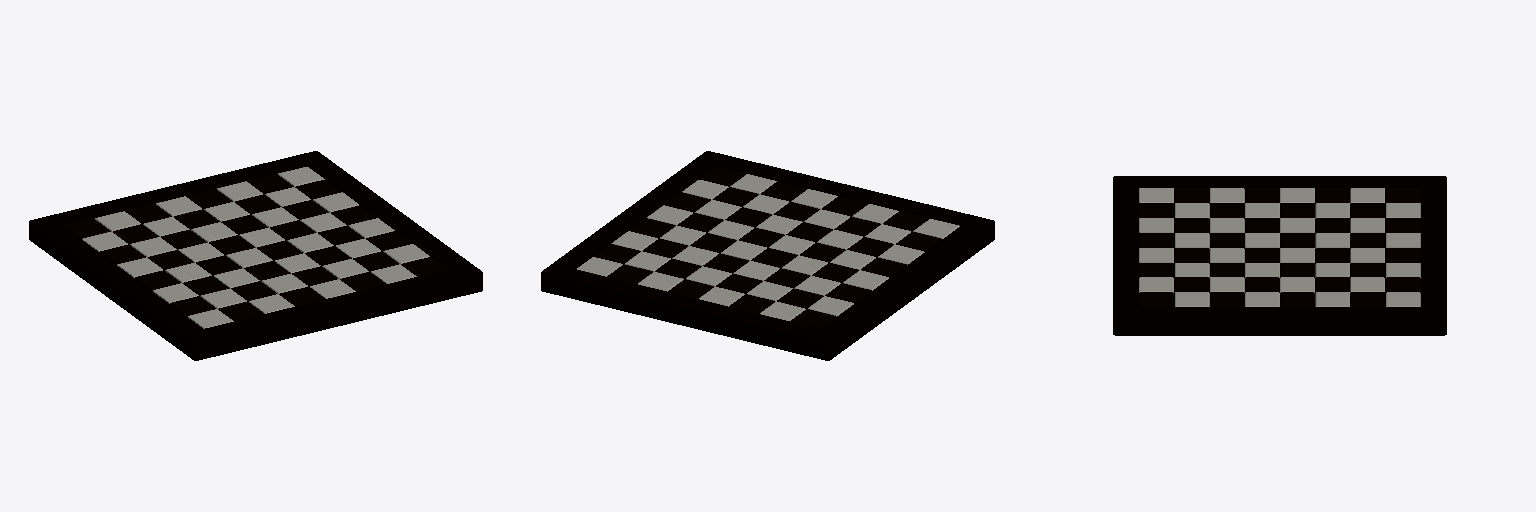
The model's file is chessboard.obj.
The picture shows the model from 3 angles: view 1: azimuth 30°, elevation 25°; view 2: azimuth 150°, elevation 25°; view 3: azimuth 270°, elevation 25°; orthographic projection.
Parts seen in each view (by area): view 1: Board_Plane, Board_base_Plane.001; view 2: Board_Plane, Board_base_Plane.001; view 3: Board_Plane, Board_base_Plane.001.
Part boxes in pixels (x1,y1,x2,y2): Board_Plane: (64, 167, 446, 328); Board_base_Plane.001: (29, 151, 482, 360); Board_Plane: (577, 167, 959, 328); Board_base_Plane.001: (541, 151, 994, 360); Board_Plane: (1139, 188, 1420, 306); Board_base_Plane.001: (1113, 176, 1446, 335).
Bounding box in the file's own units: 13.92 × 0.883 × 13.92.